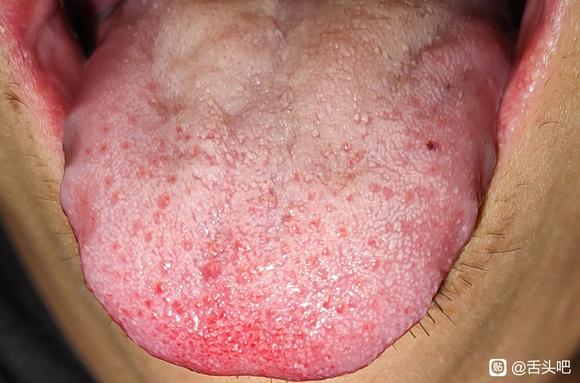baitaishe: (61, 2, 509, 383)
hongdianshe: (422, 136, 439, 155), (153, 279, 166, 298), (320, 295, 333, 311), (96, 142, 108, 154)
hongshe: (61, 2, 509, 383)
